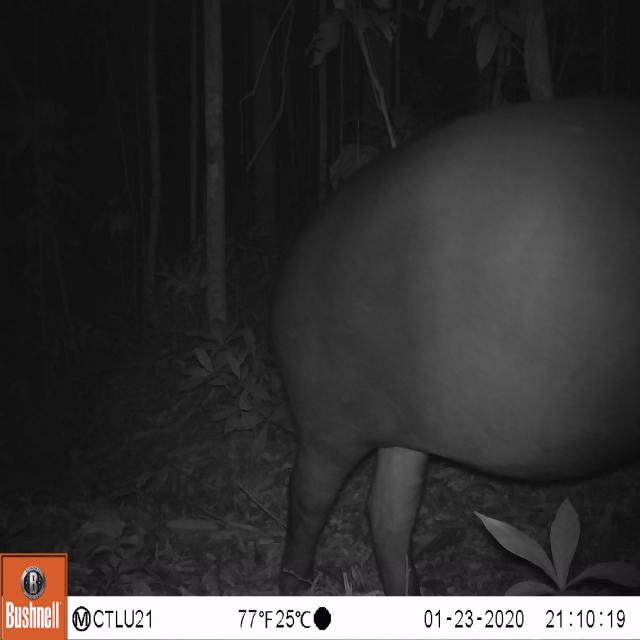Lowland Tapir: (274, 93, 640, 596)
